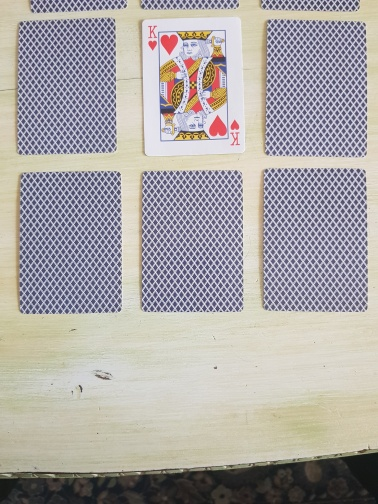king: (140, 16, 247, 157)
